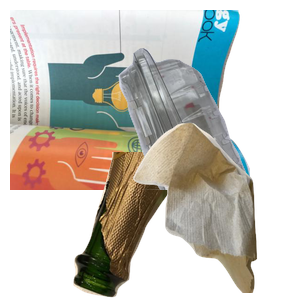glass: (71, 152, 260, 300)
paper: (10, 10, 250, 190)
plastic: (71, 45, 300, 225)
trash: (131, 120, 300, 300)
